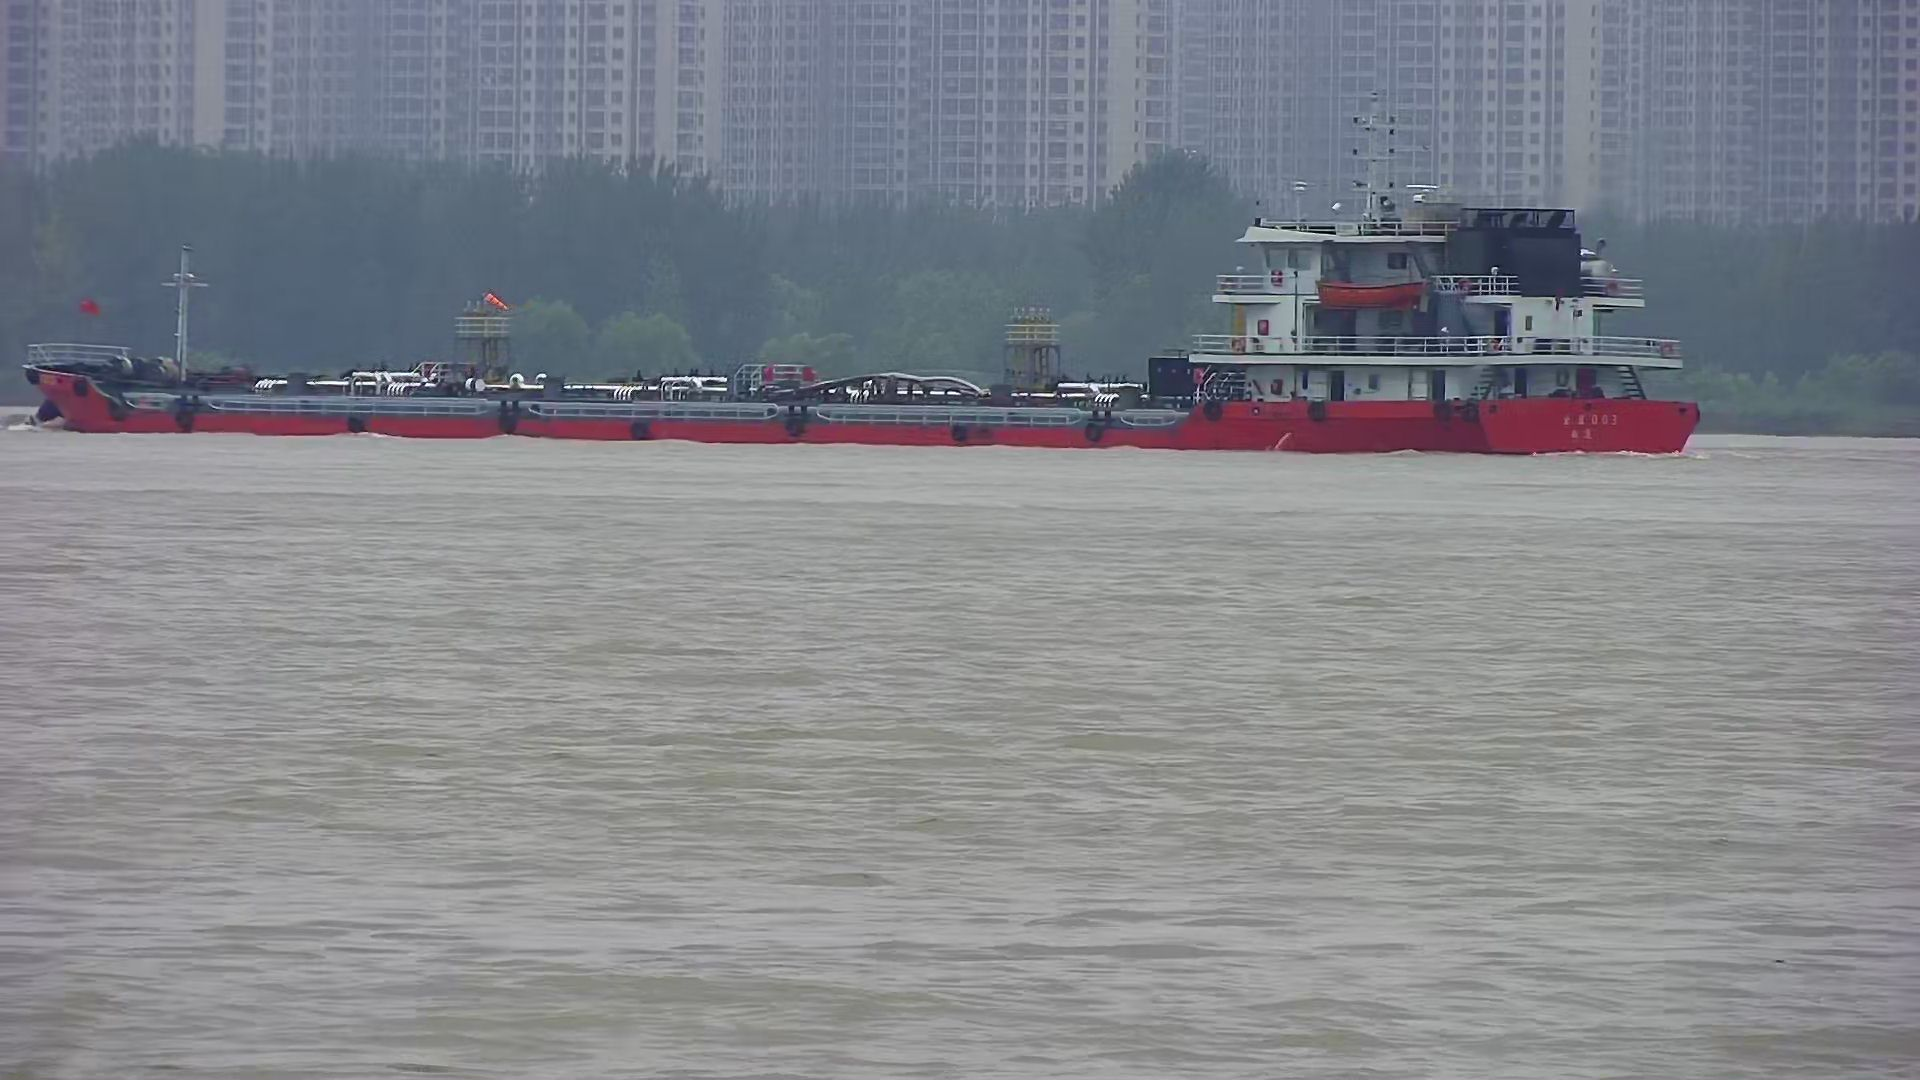ship: (18, 182, 1702, 455)
